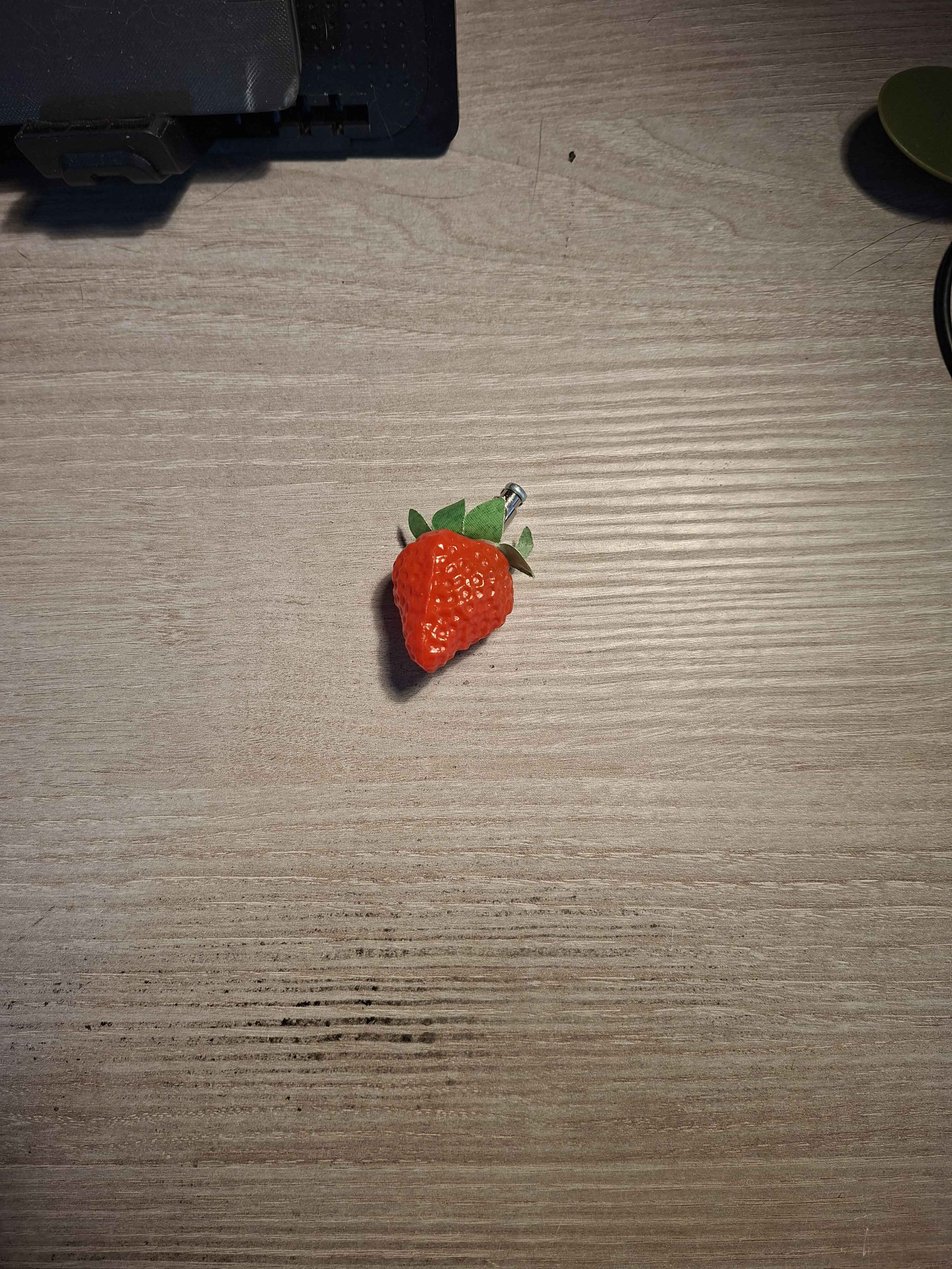Strawberry: (373, 524, 521, 685)
